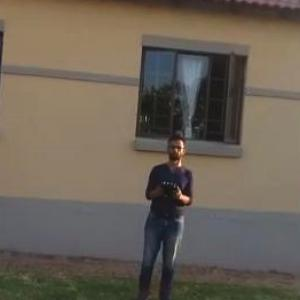follow: (128, 129, 197, 299)
